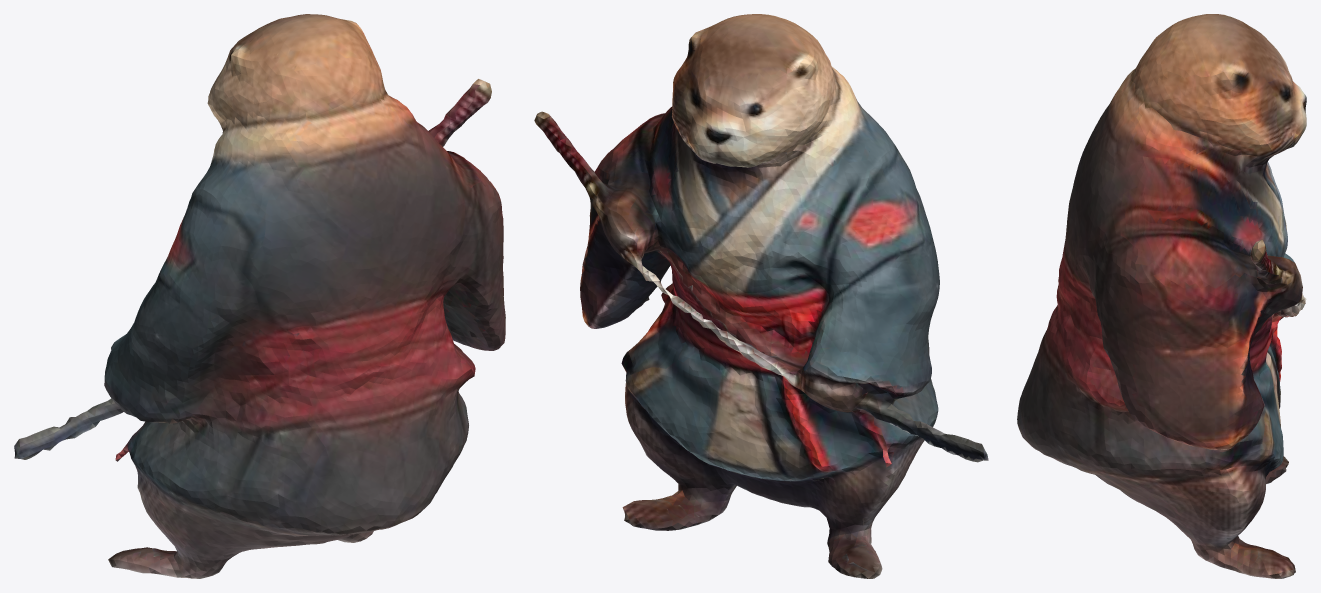
The picture shows the model from 3 angles, left to right: view 1: azimuth 30°, elevation 25°; view 2: azimuth 150°, elevation 25°; view 3: azimuth 270°, elevation 25°; orthographic projection. The views are drawn at different scales.
Visible parts, largest first — view 1: world; view 2: world; view 3: world.
Part boxes in pixels (x1,y1,x2,y2): world: (14,14,505,578); world: (534,14,988,578); world: (1017,14,1306,578).
Bounding box in the file's own units: 0.8788 × 0.9358 × 0.479.
Materials: 1 (1 with a texture image).
